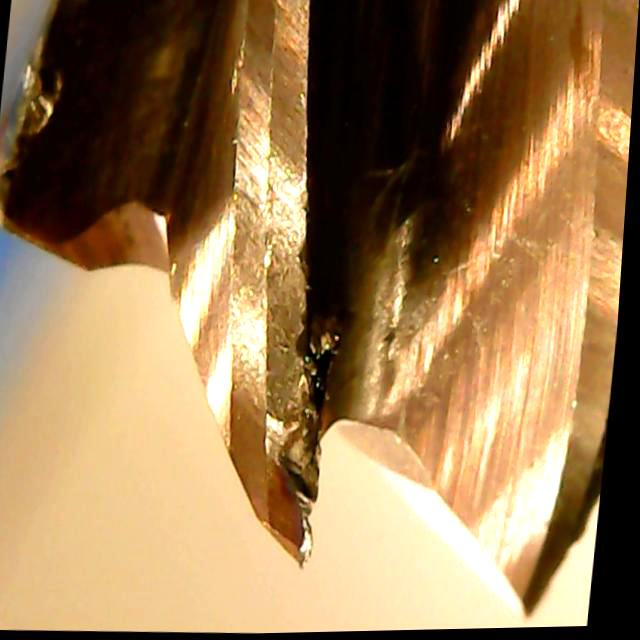Tool-wear-class-2: (193, 322, 367, 577)
